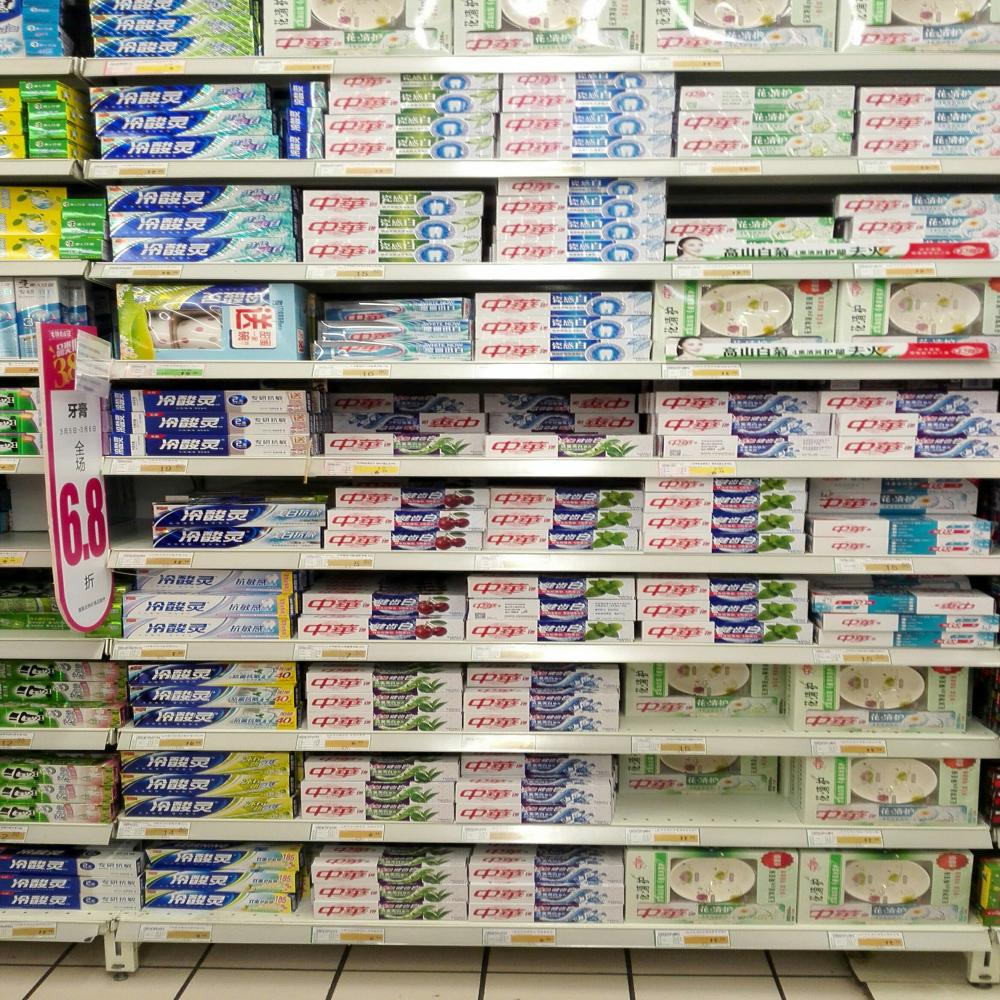shelf: (0, 917, 994, 953), (0, 726, 1000, 758), (0, 817, 994, 849), (0, 637, 1000, 668), (0, 548, 1000, 576), (0, 51, 1000, 76), (0, 454, 1000, 479), (0, 356, 1000, 380), (0, 155, 1000, 178), (0, 259, 1000, 279)
